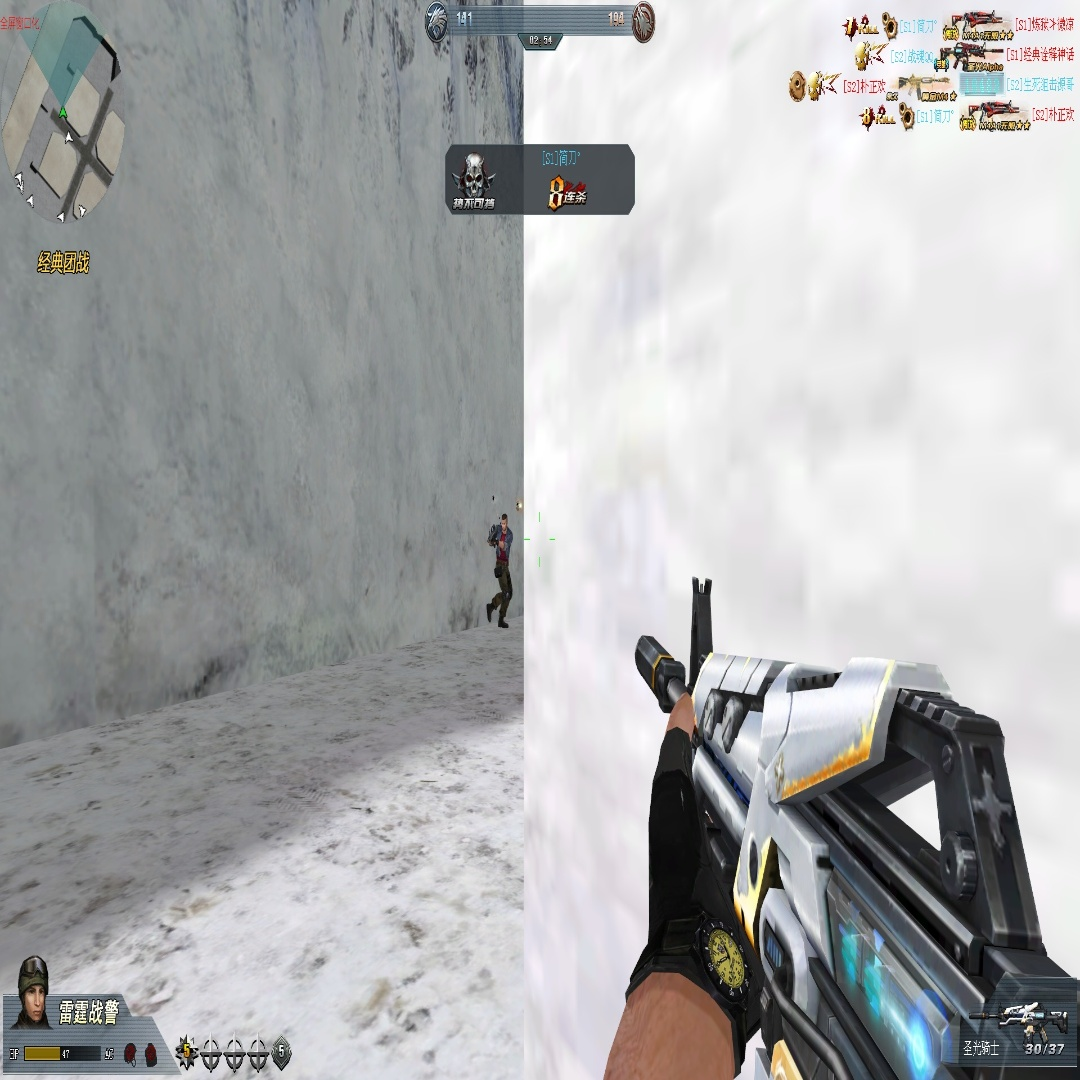t: (485, 510, 514, 627)
